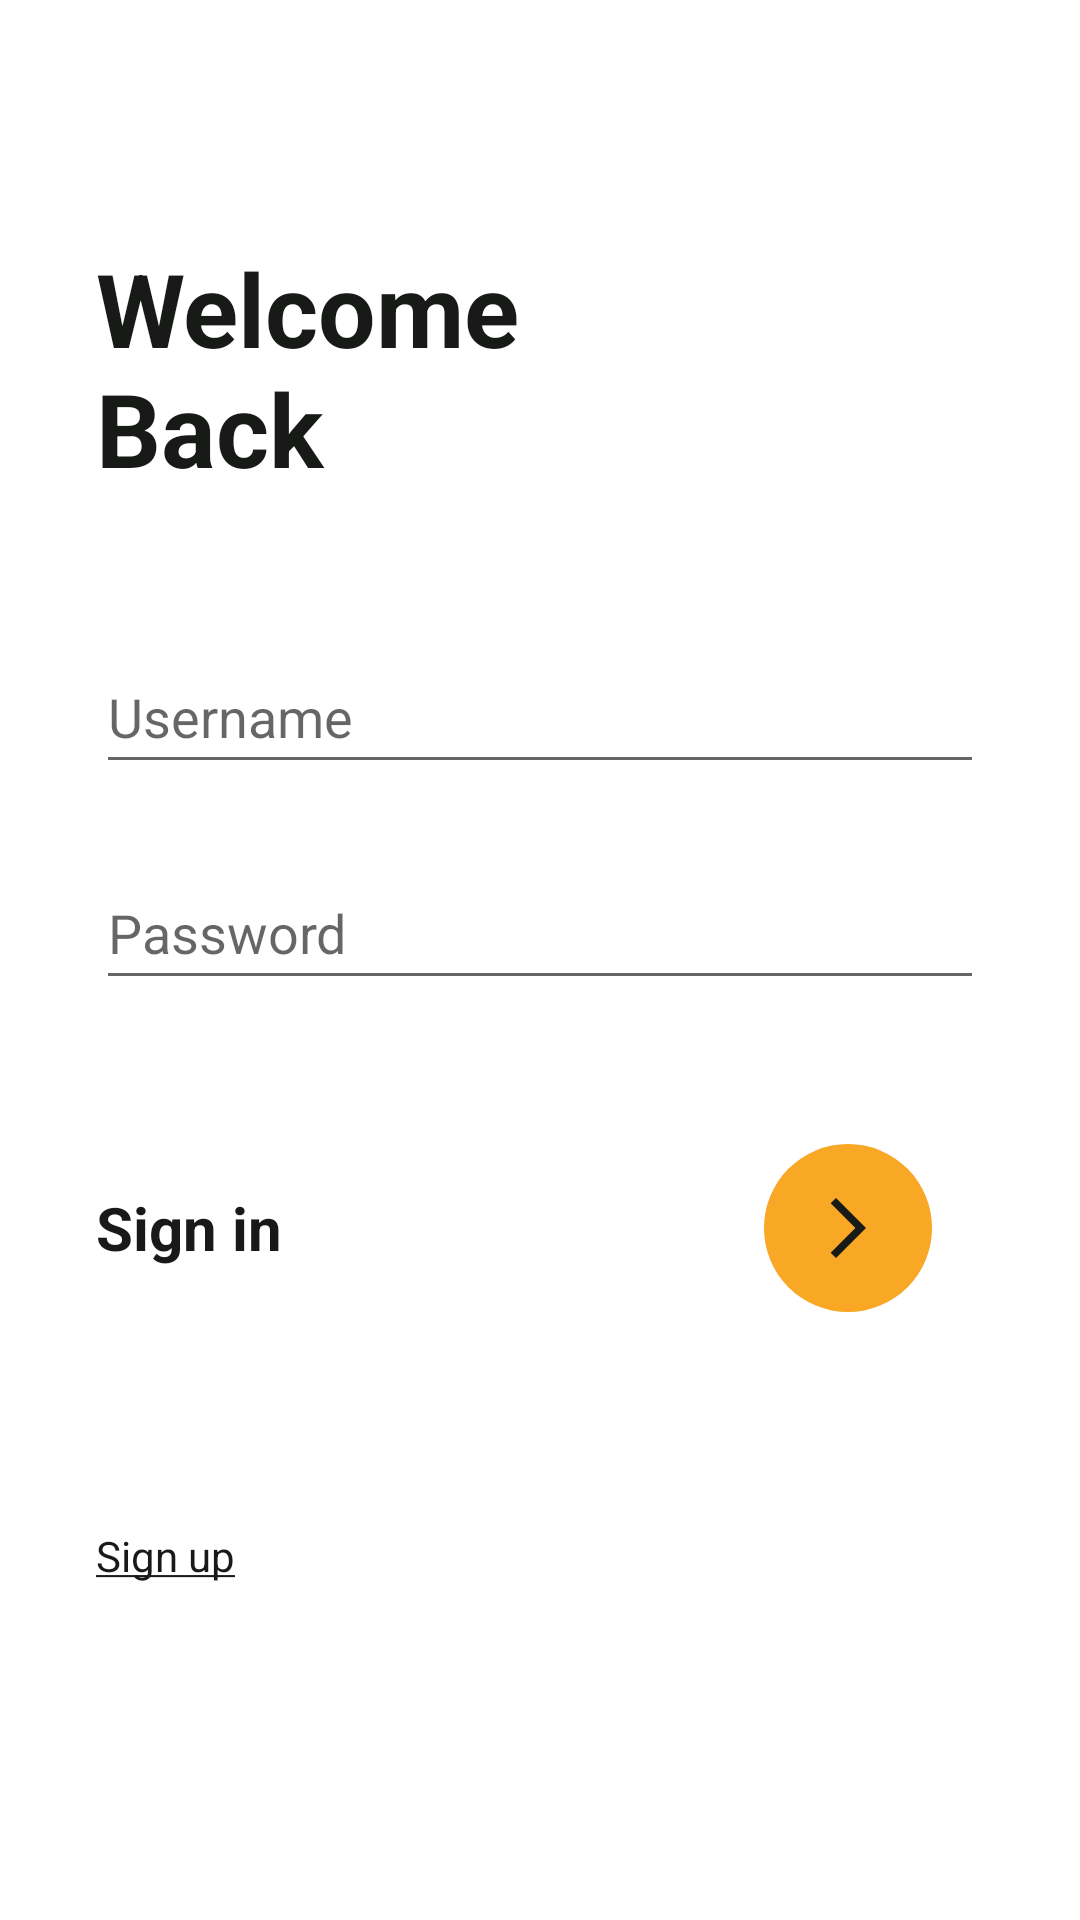

Locate icon controls on the screen. Image size 1080px x 1920px, boxes as (x1, y1, x2, y2).
arrow forward: (764, 1144, 932, 1312)
